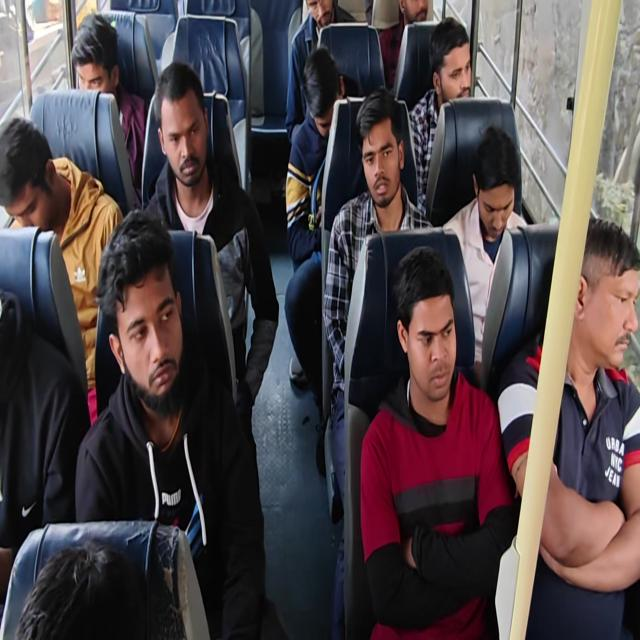person: (96, 204, 202, 423), (18, 536, 178, 640), (564, 205, 640, 392), (394, 252, 465, 407), (0, 115, 65, 262), (148, 55, 211, 202), (466, 113, 520, 250), (357, 84, 410, 221), (429, 22, 485, 132), (71, 16, 122, 114), (298, 46, 348, 140), (392, 0, 439, 42), (302, 0, 346, 29)
